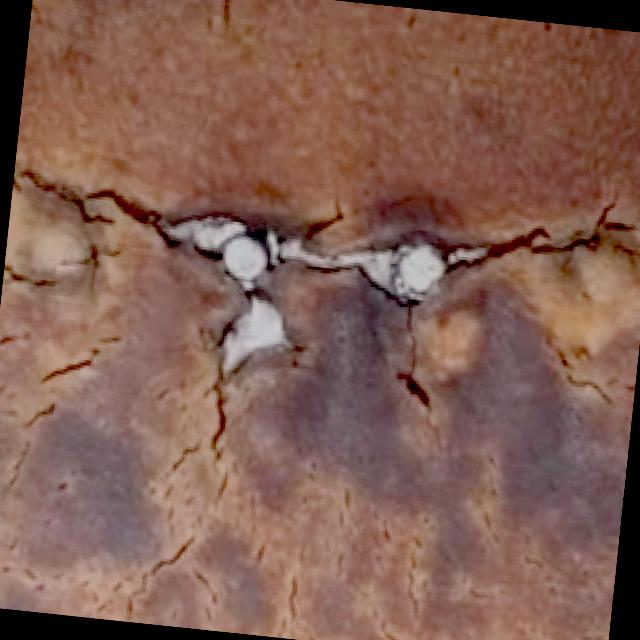crack: (461, 218, 598, 288), (380, 316, 437, 414), (58, 180, 156, 229), (54, 335, 124, 402), (196, 383, 237, 450)
